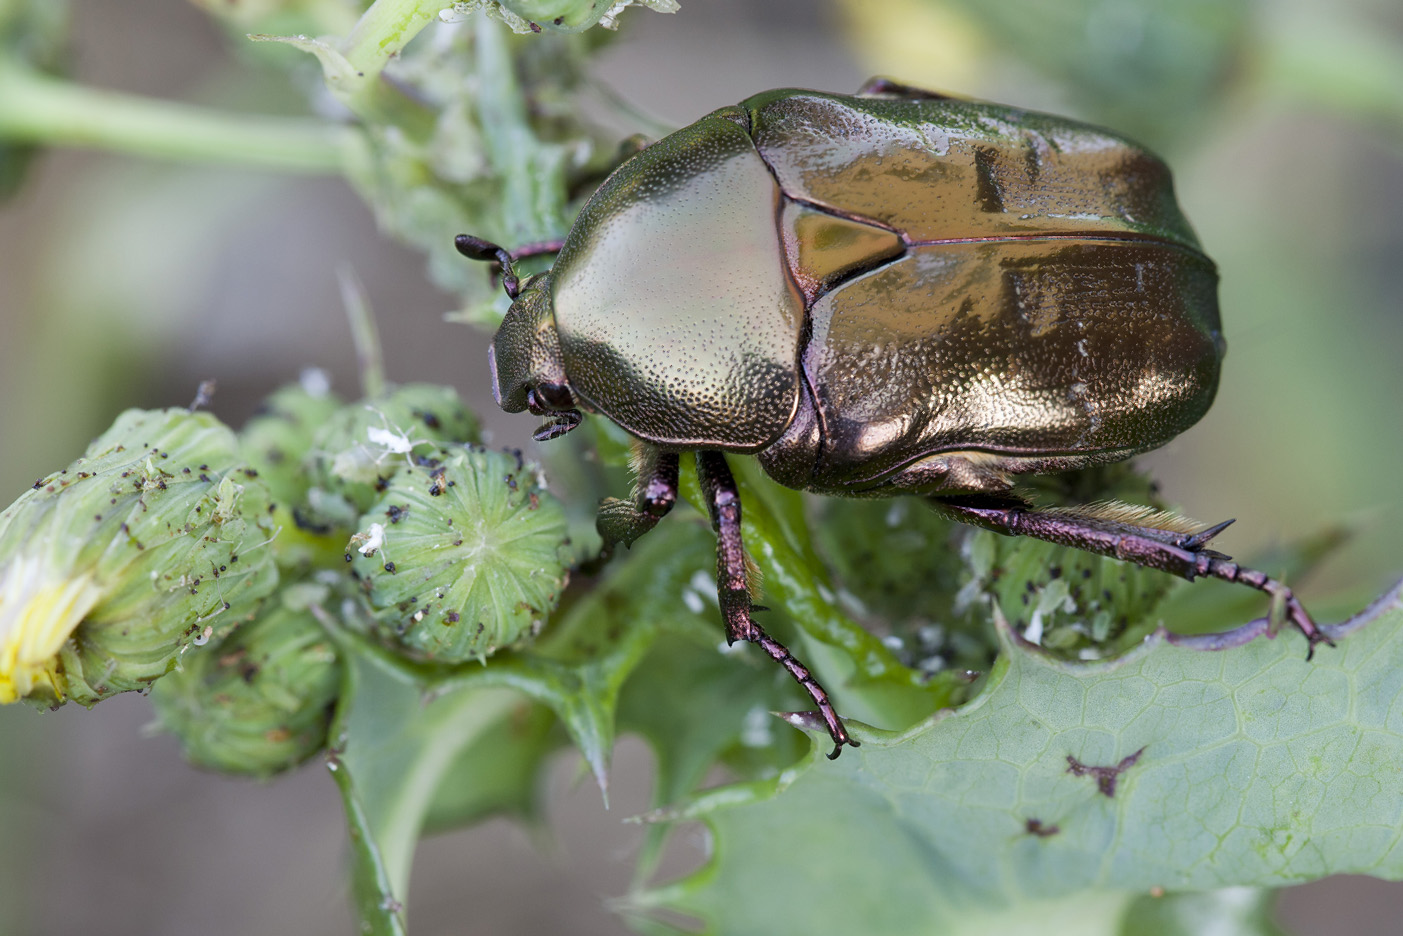Protaetia_fieberi: (443, 58, 1361, 764)
